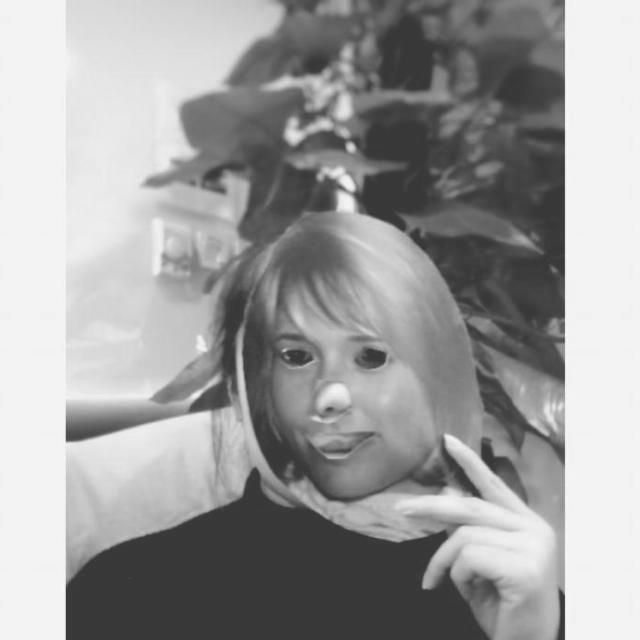fake: (236, 210, 494, 540)
